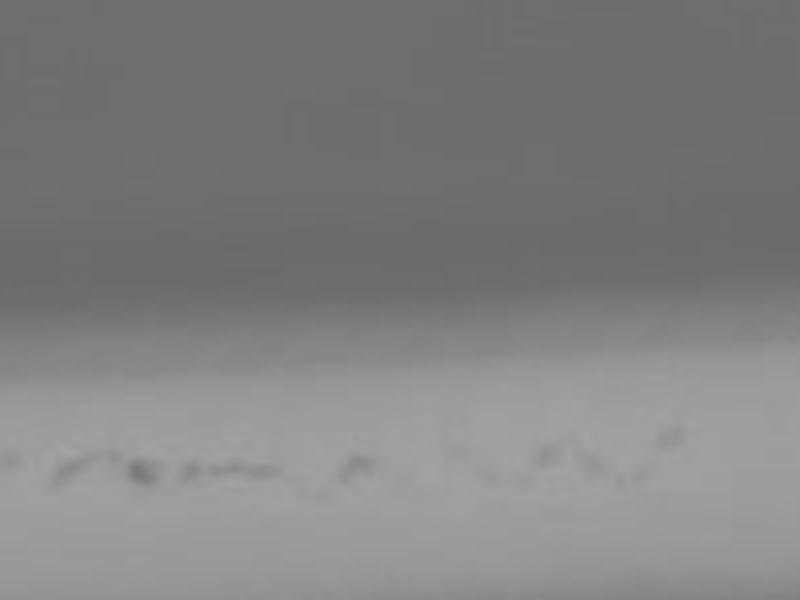defect: (573, 449, 604, 480), (127, 457, 157, 487), (55, 455, 83, 483), (351, 451, 378, 478), (536, 442, 561, 467), (658, 420, 683, 445), (178, 460, 200, 482), (1, 454, 22, 476), (248, 463, 268, 483), (630, 461, 649, 480), (228, 457, 246, 475), (267, 460, 285, 478), (480, 465, 498, 483), (336, 468, 353, 485), (104, 445, 120, 461), (613, 467, 629, 483), (206, 463, 220, 477), (316, 487, 330, 501)
